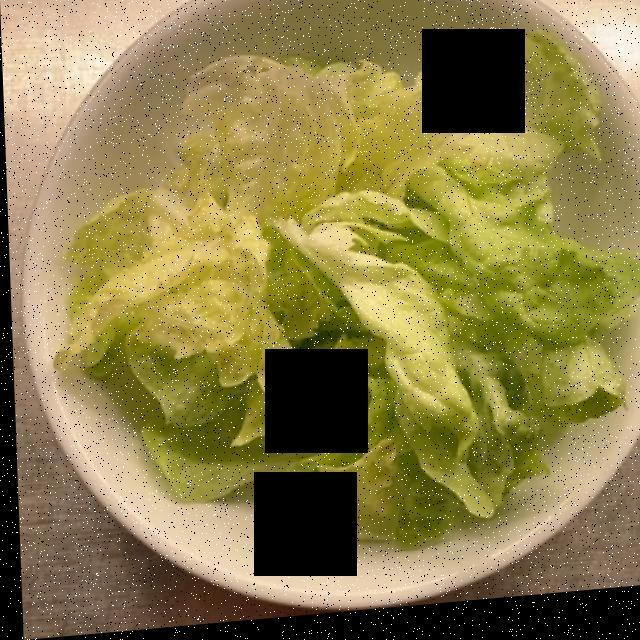salad: (61, 61, 626, 541)
